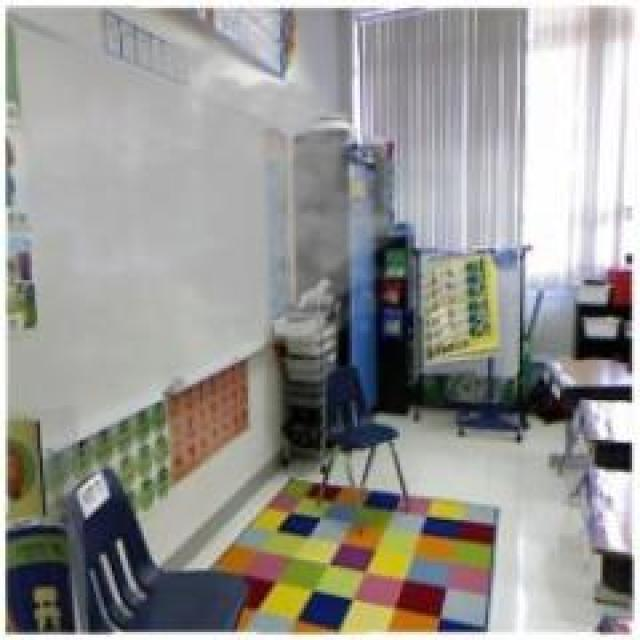smoke: (12, 10, 412, 354)
